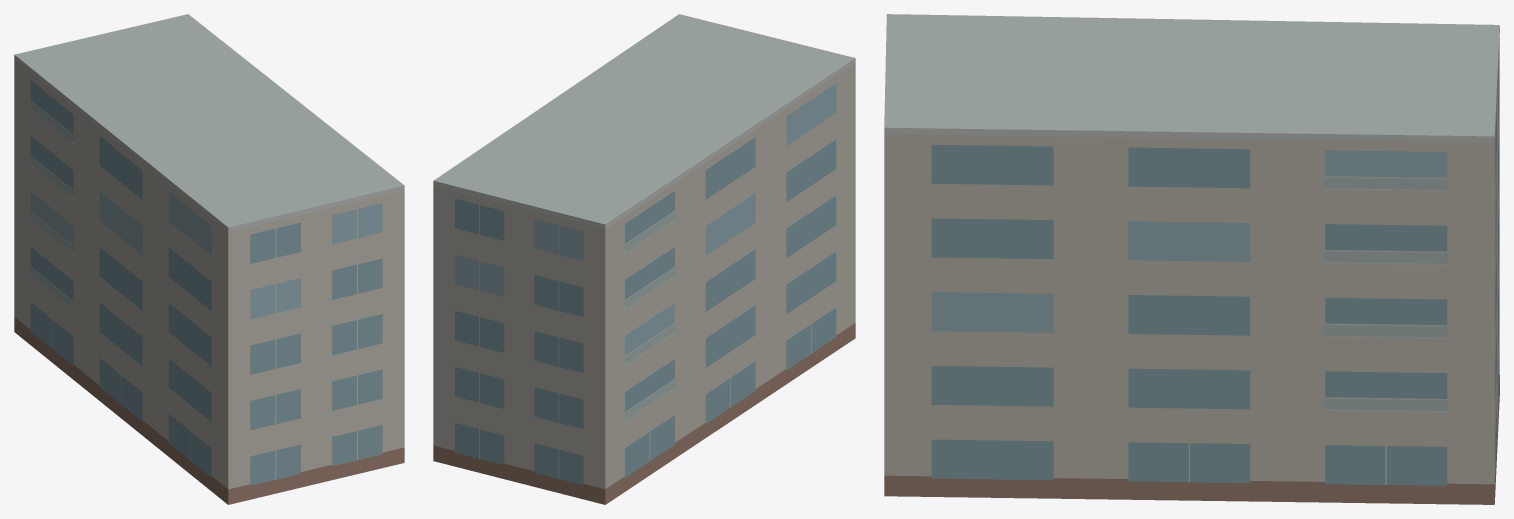
The model's file is survey-upis-33002544.glb.
The picture shows the model from 3 angles, left to right: view 1: azimuth 30°, elevation 25°; view 2: azimuth 150°, elevation 25°; view 3: azimuth 270°, elevation 25°; orthographic projection. The views are drawn at different scales.
Parts seen in each view (by area): view 1: survey-upis-33002544.tmp; view 2: survey-upis-33002544.tmp; view 3: survey-upis-33002544.tmp.
Part boxes in pixels (<box>): survey-upis-33002544.tmp: <box>14,14,404,504</box>; survey-upis-33002544.tmp: <box>433,14,855,504</box>; survey-upis-33002544.tmp: <box>884,14,1499,504</box>.
Size of the model in its own units: 10.12 by 14.2 by 21.51.
